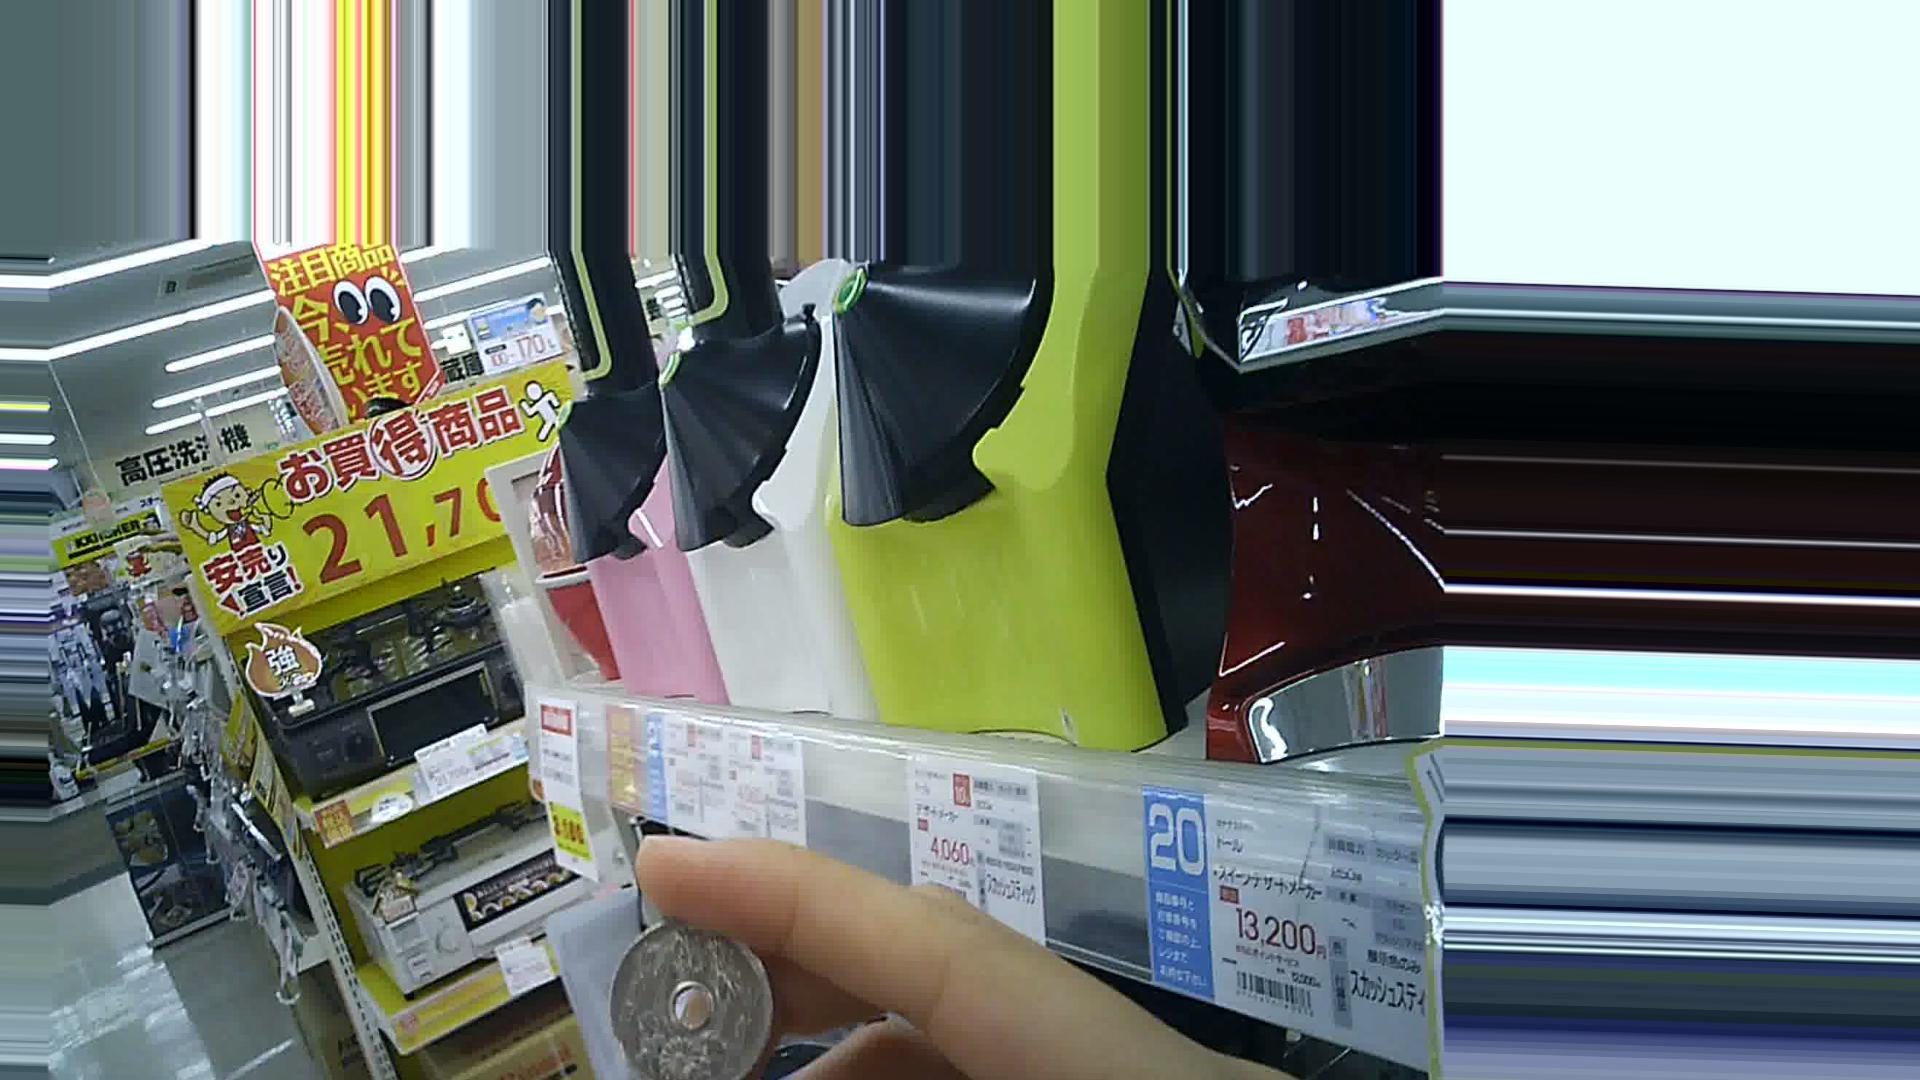50 Yen: (597, 902, 767, 1079)
